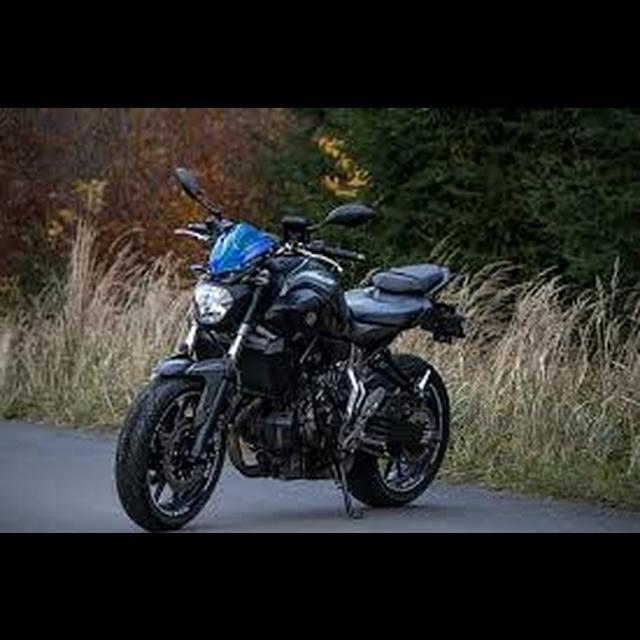motorcycle: (111, 161, 468, 535)
